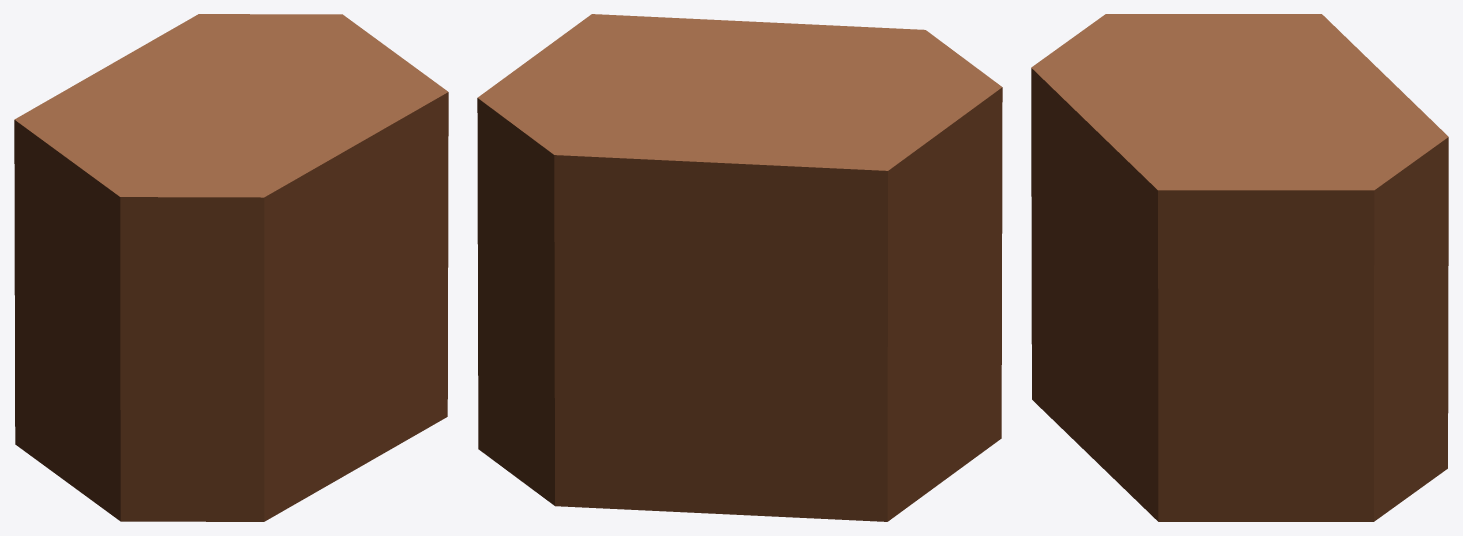
The model's file is Par_Tree_2.fbx.
3 renders of one model, left to right at view 1: azimuth 30°, elevation 25°; view 2: azimuth 150°, elevation 25°; view 3: azimuth 270°, elevation 25°, orthographic. The views are drawn at different scales.
Visible parts, largest first — view 1: Par_Tree_2; view 2: Par_Tree_2; view 3: Par_Tree_2.
Part boxes in pixels (<box>): Par_Tree_2: <box>14,14,448,521</box>; Par_Tree_2: <box>477,14,1002,521</box>; Par_Tree_2: <box>1031,14,1448,521</box>.
Size of the model in its own units: 15.97 by 14 by 15.97.
